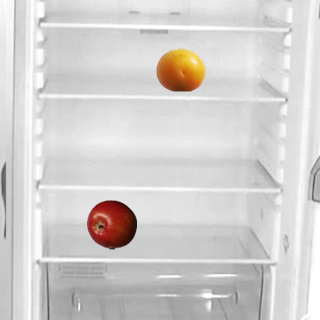Apple Braeburn: (86, 199, 136, 249)
Cherry Wax Yellow: (155, 44, 205, 94)
